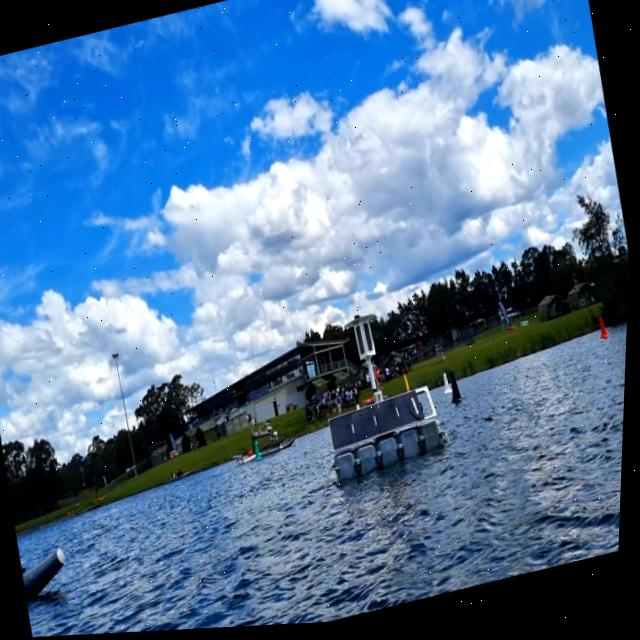led: (363, 325, 378, 358), (357, 328, 370, 360)
